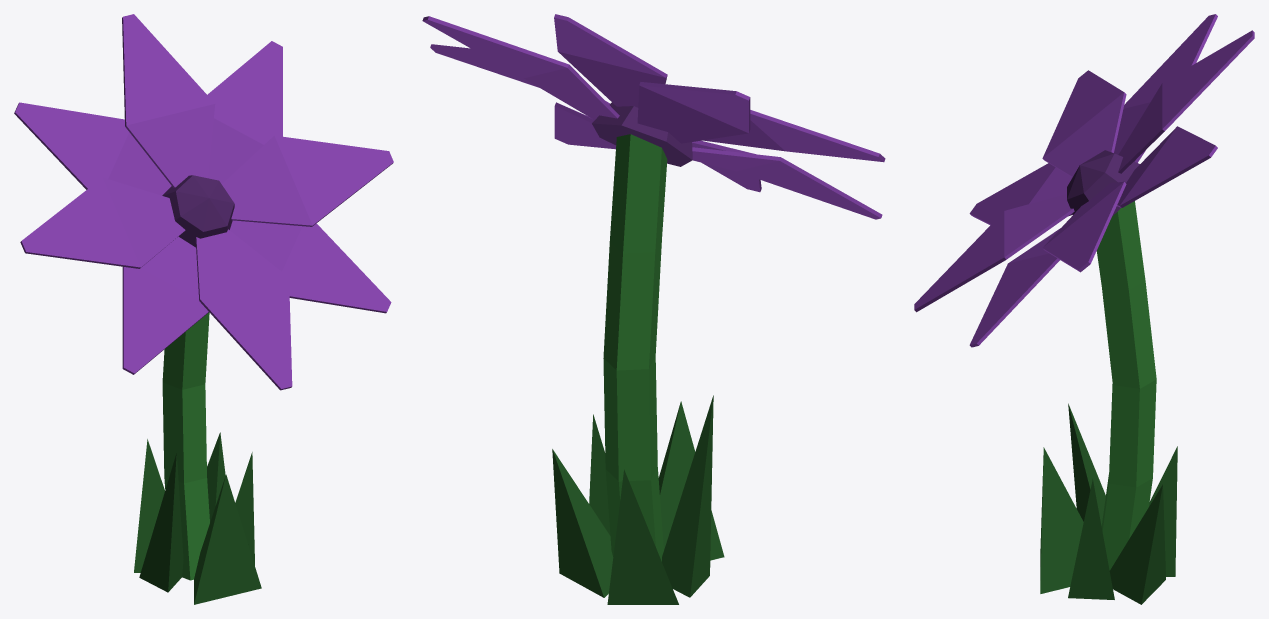
Rendered from Flower_1_Purple.fbx.
3 views of the same model, side by side, from view 1: azimuth 30°, elevation 25°; view 2: azimuth 150°, elevation 25°; view 3: azimuth 270°, elevation 25° (orthographic). The views are drawn at different scales.
Visible parts, largest first — view 1: Flower_1_Purple; view 2: Flower_1_Purple; view 3: Flower_1_Purple.
Part boxes in pixels (x1=…): Flower_1_Purple: x1=14, y1=14, x2=393, y2=604; Flower_1_Purple: x1=422, y1=14, x2=885, y2=604; Flower_1_Purple: x1=914, y1=14, x2=1254, y2=604.
Size of the model in its own units: 18.76 by 24.83 by 14.08.
